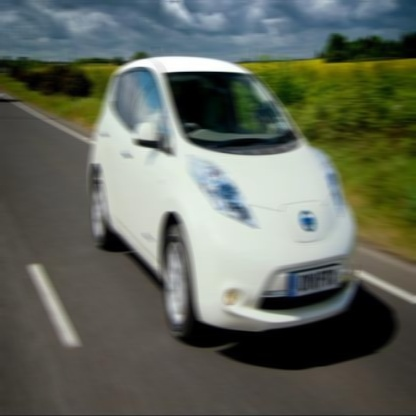Vehicle: (88, 44, 358, 344)
